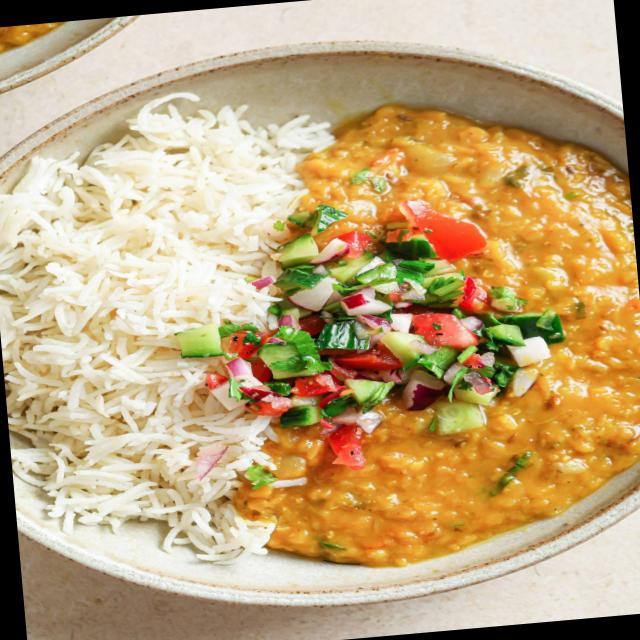dal: (227, 101, 640, 566)
rice: (0, 88, 340, 563)
